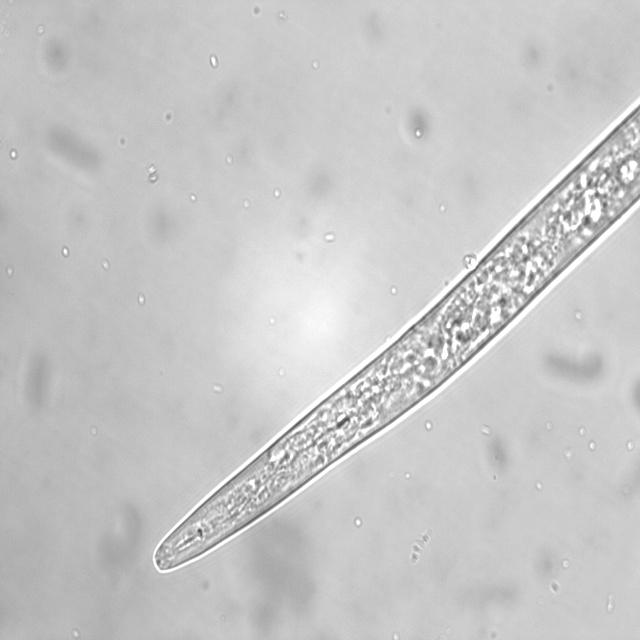Meloidogyne: (150, 92, 640, 576)
